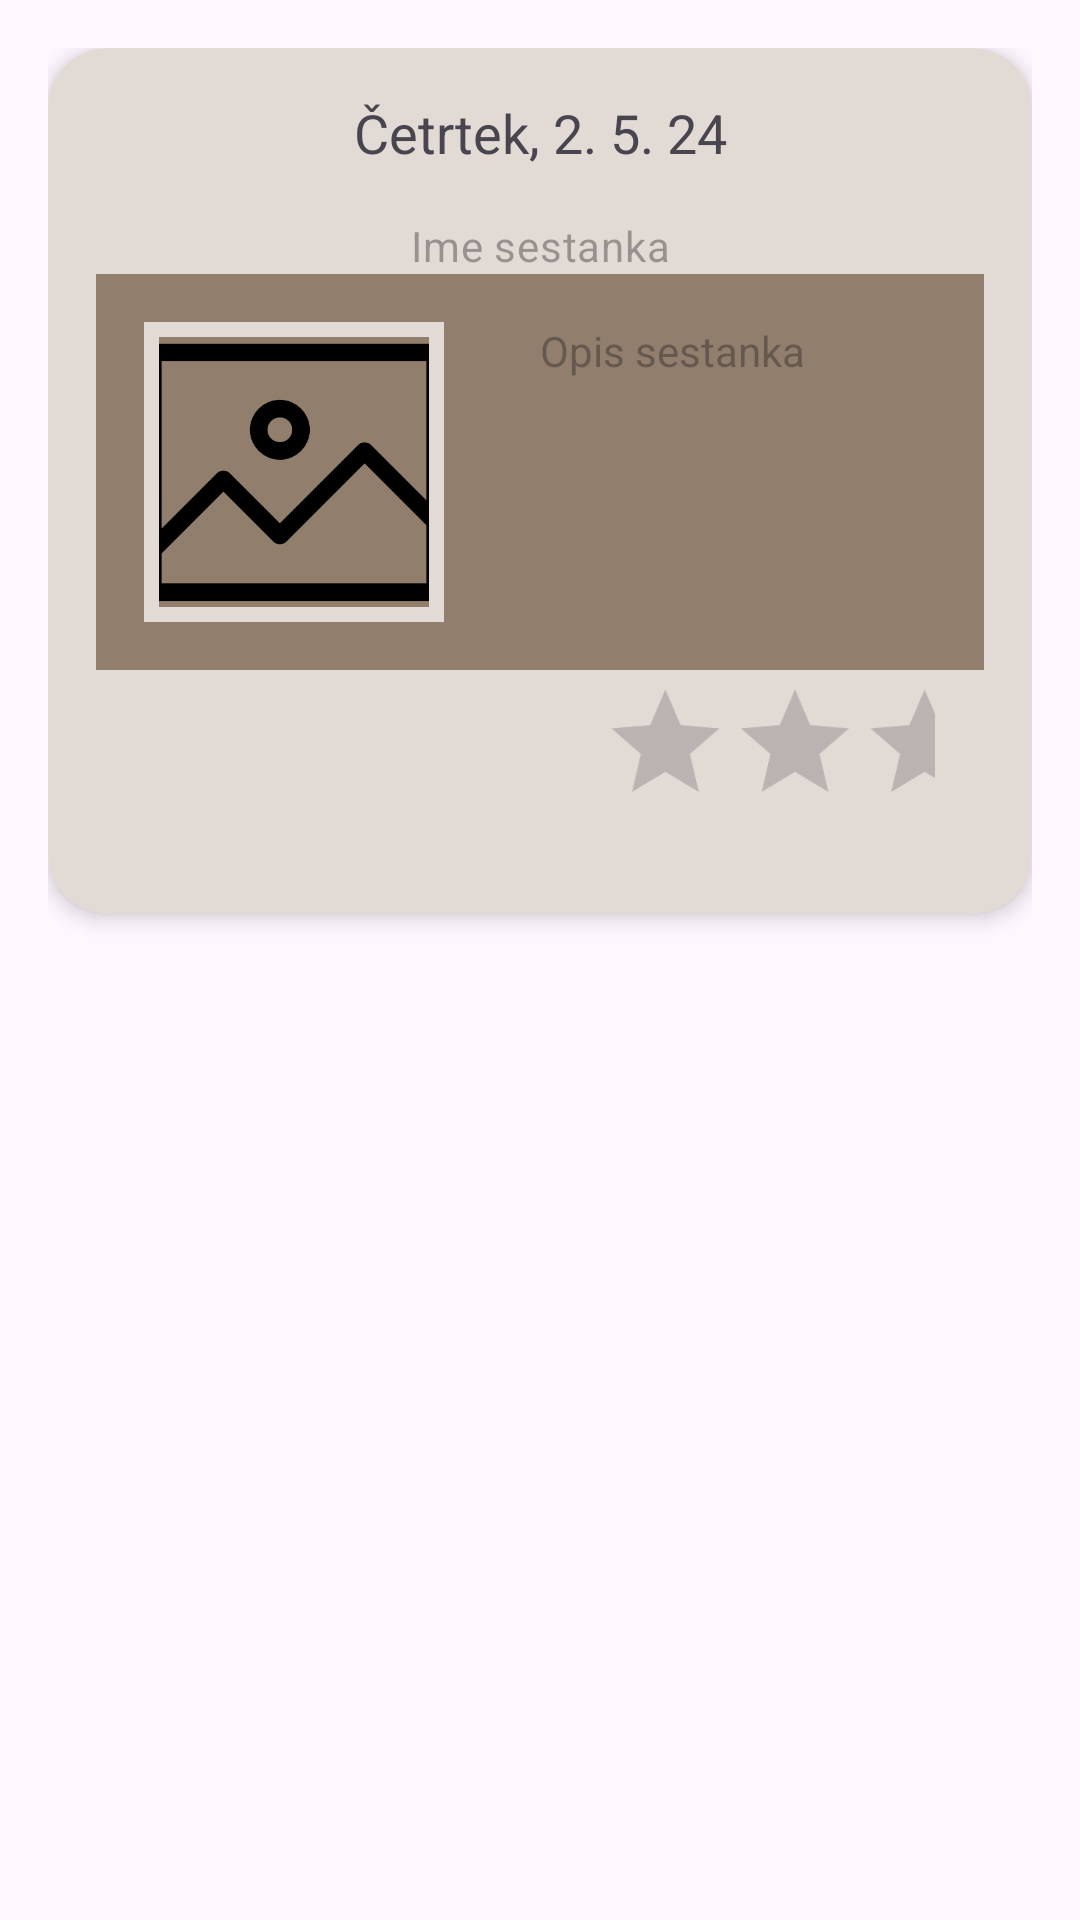

Locate icon controls on the screen. Image size 1080 x 1920, boxes as (x1, y1, x2, y2).
slika sestanka: (144, 322, 444, 622)
